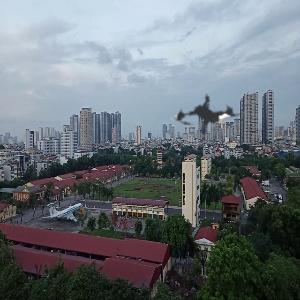drone: (152, 61, 270, 179)
